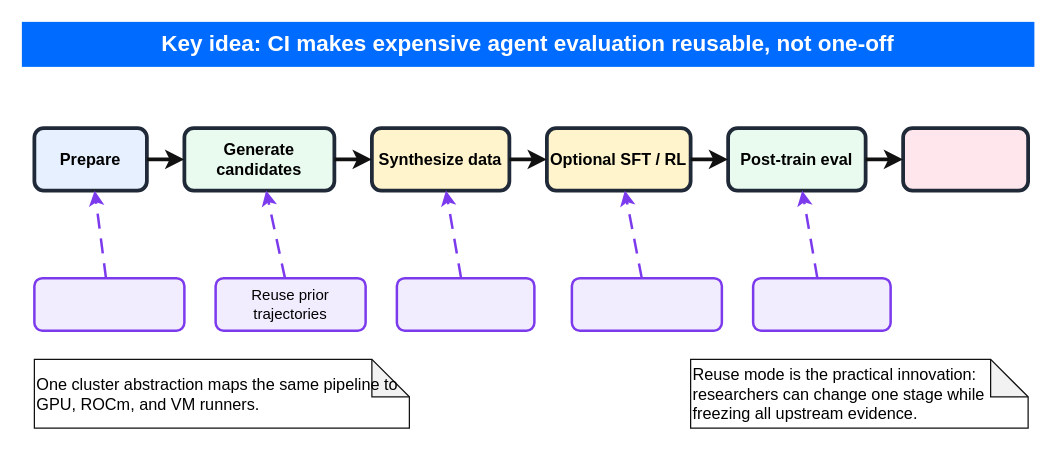
Some shapes in this 1055 by 450 pixel diagram are drawn without their labels. The box of each missing label's shape, as (x1, y1, x2, y2) in pixels:
Reuse prior adapters: (570, 276, 722, 331)
Reuse prior data: (395, 276, 535, 331)
Reuse prior environment: (32, 276, 185, 331)
Reuse prior evals: (751, 276, 891, 331)
Select + report: (901, 126, 1029, 192)
